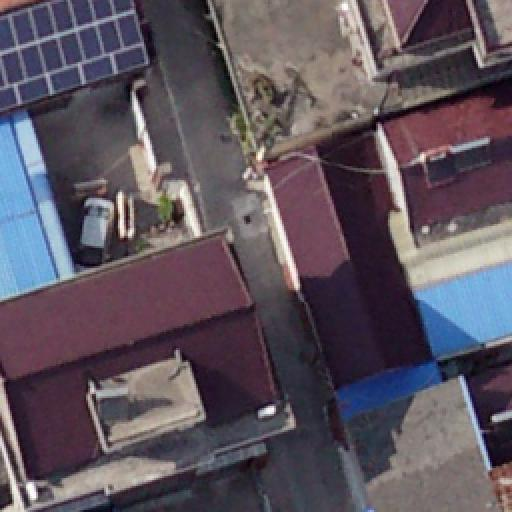solar-panel: (1, 1, 151, 111)
